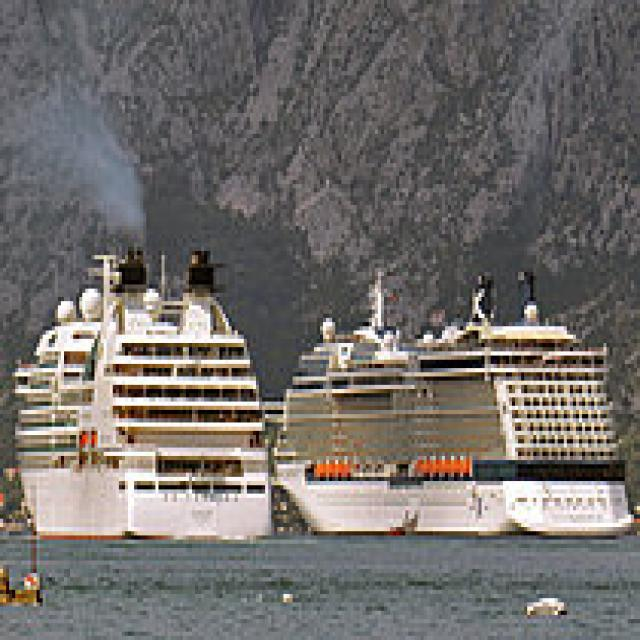Ship: (269, 256, 640, 553), (7, 231, 297, 549)
